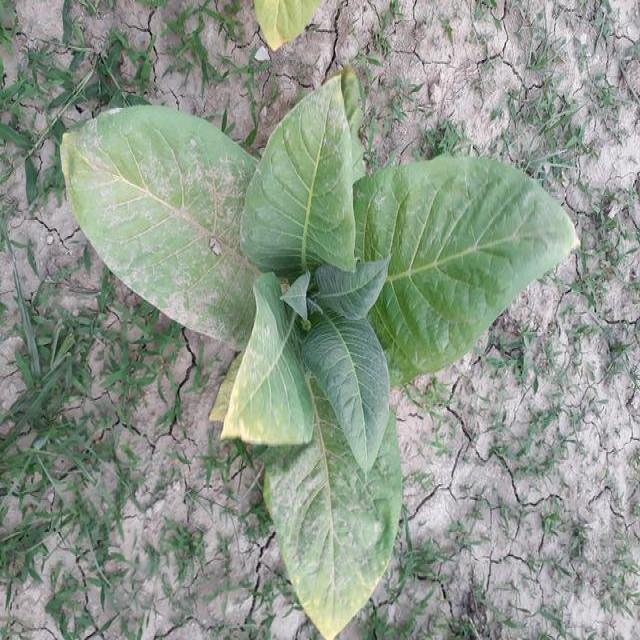crop: (62, 74, 585, 606)
